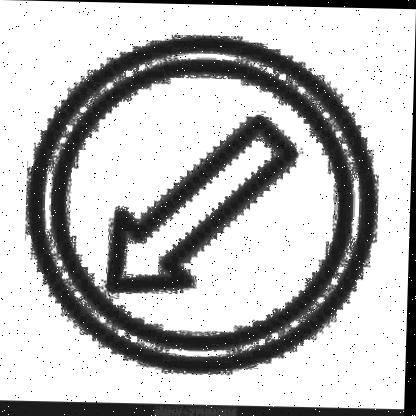Keep left: (24, 29, 382, 378)
